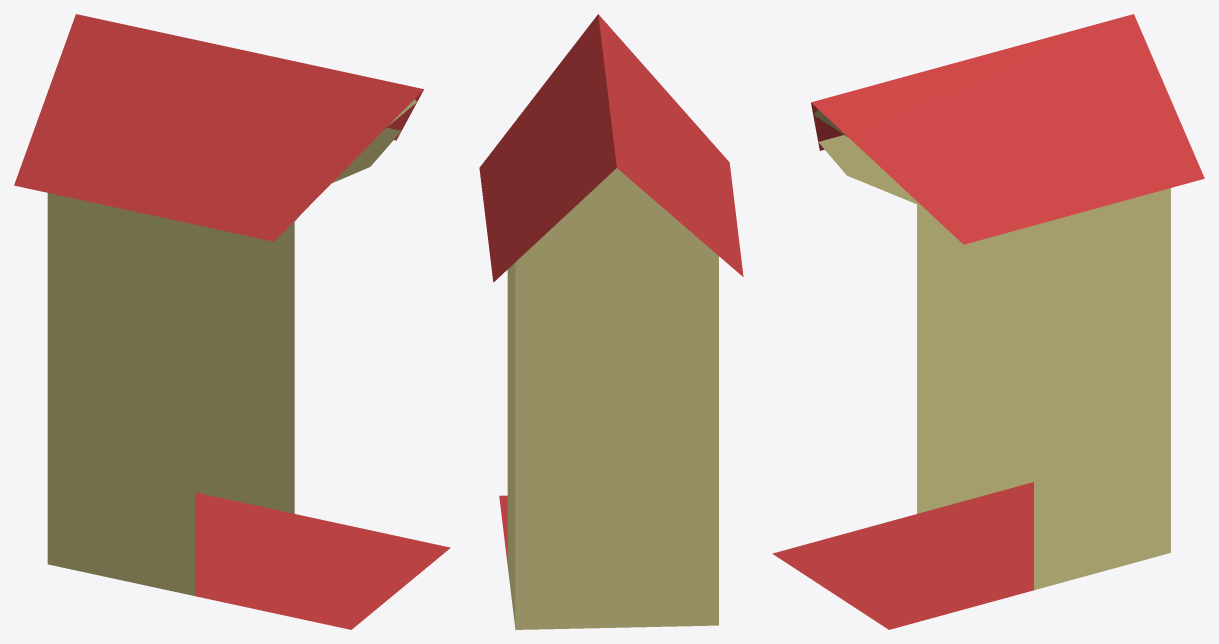
The picture shows the model from 3 angles, left to right: view 1: azimuth 30°, elevation 25°; view 2: azimuth 150°, elevation 25°; view 3: azimuth 270°, elevation 25°; orthographic projection. The views are drawn at different scales.
Bounding box in the file's own units: 8.07 × 8.79 × 11.11.
